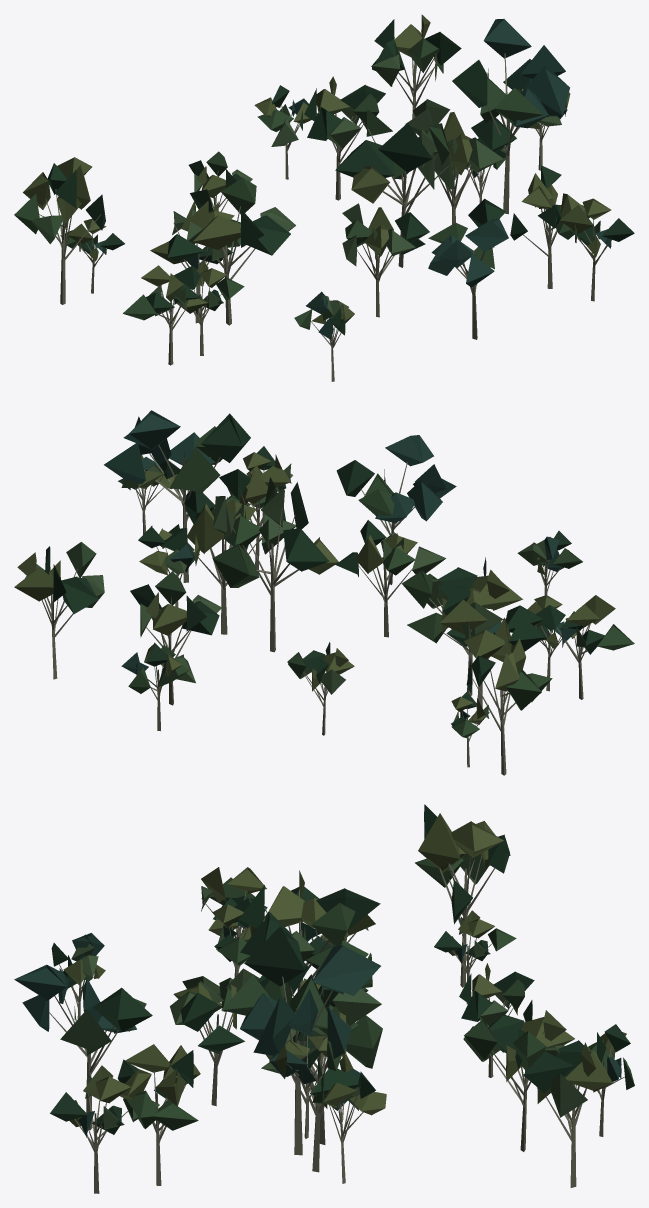
Rendered from forest_17_20.dae.
3 views of the same model, one above another, from view 1: azimuth 30°, elevation 25°; view 2: azimuth 150°, elevation 25°; view 3: azimuth 270°, elevation 25° (orthographic). The views are drawn at different scales.
Visible parts, largest first — view 1: Node; view 2: Node; view 3: Node.
Part boxes in pixels (x1,y1,x2,y2): Node: (14,14,634,381); Node: (14,410,634,775); Node: (14,804,634,1193).
Size of the model in its own units: 11.17 by 10.09 by 4.98.
